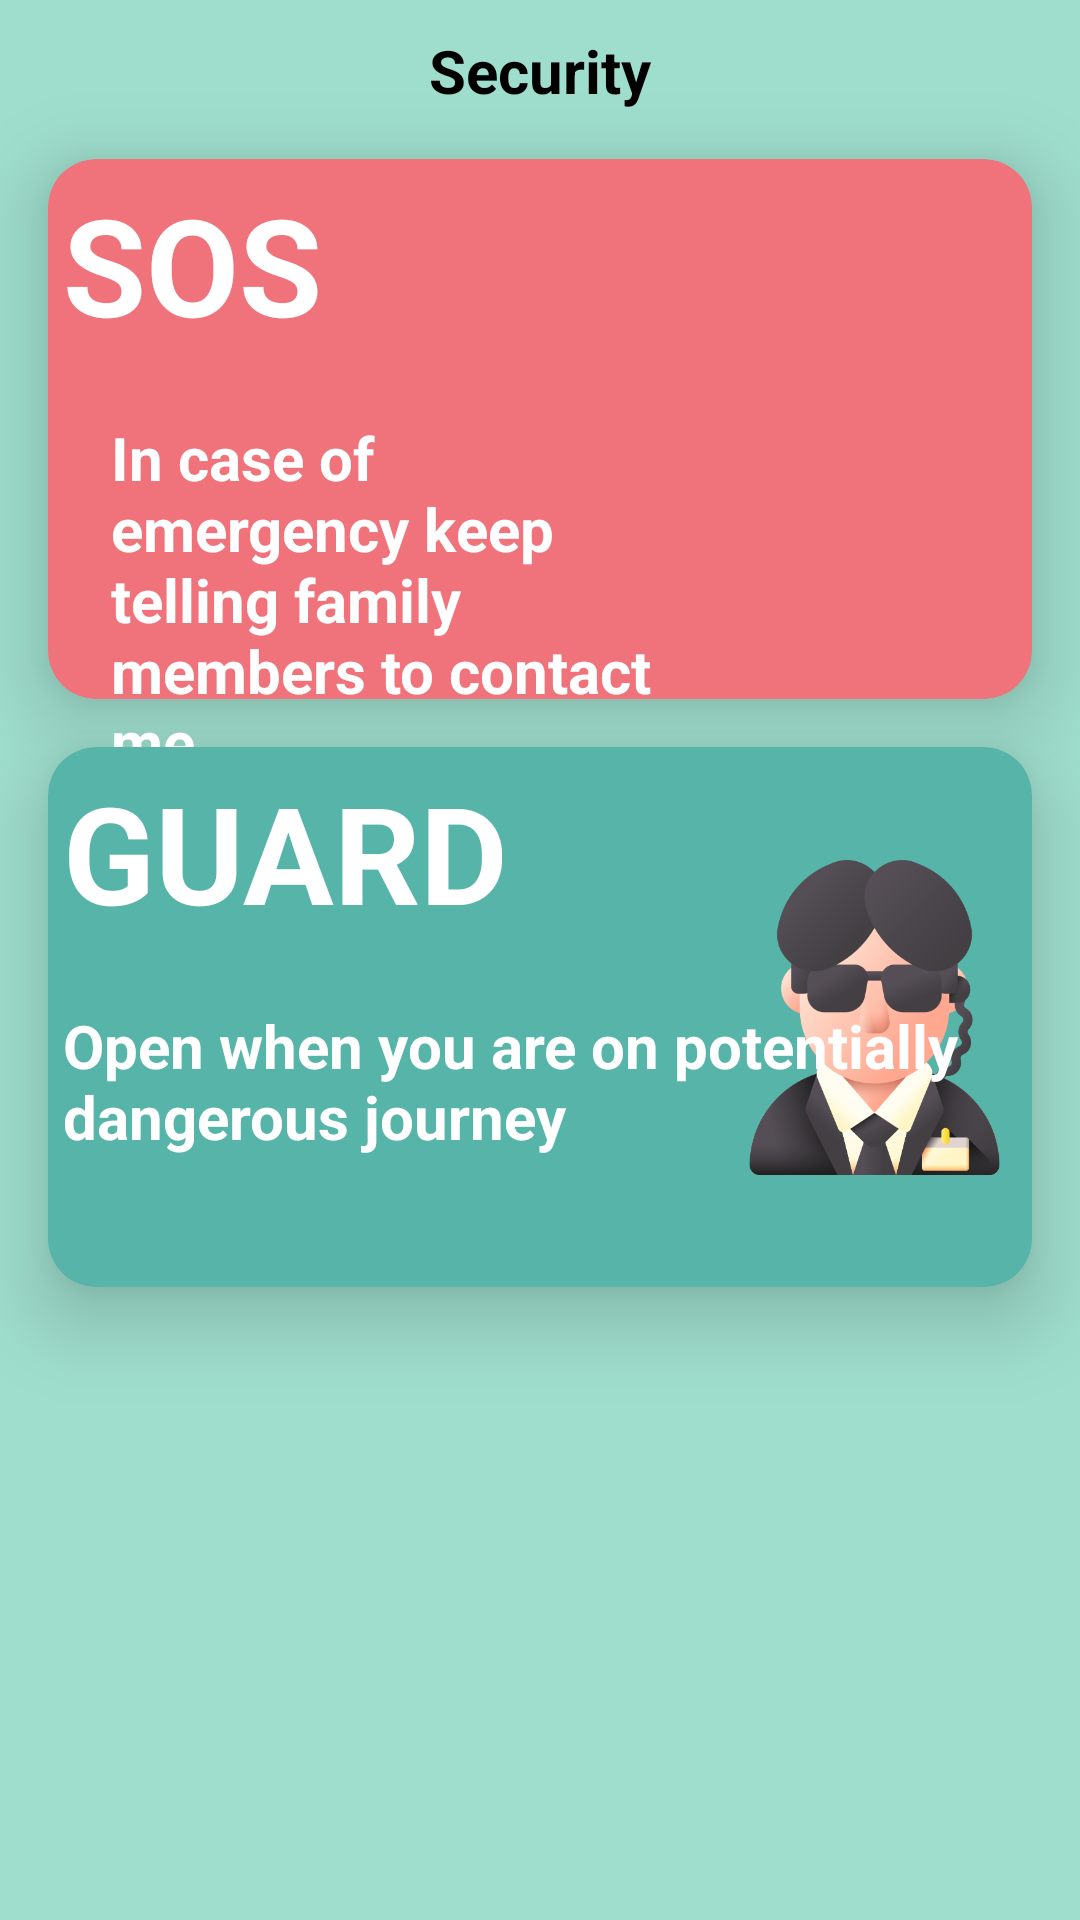

Icon click points for this 1080*1920 phone screenshot, format point (x, y):
security: point (871, 1017)
